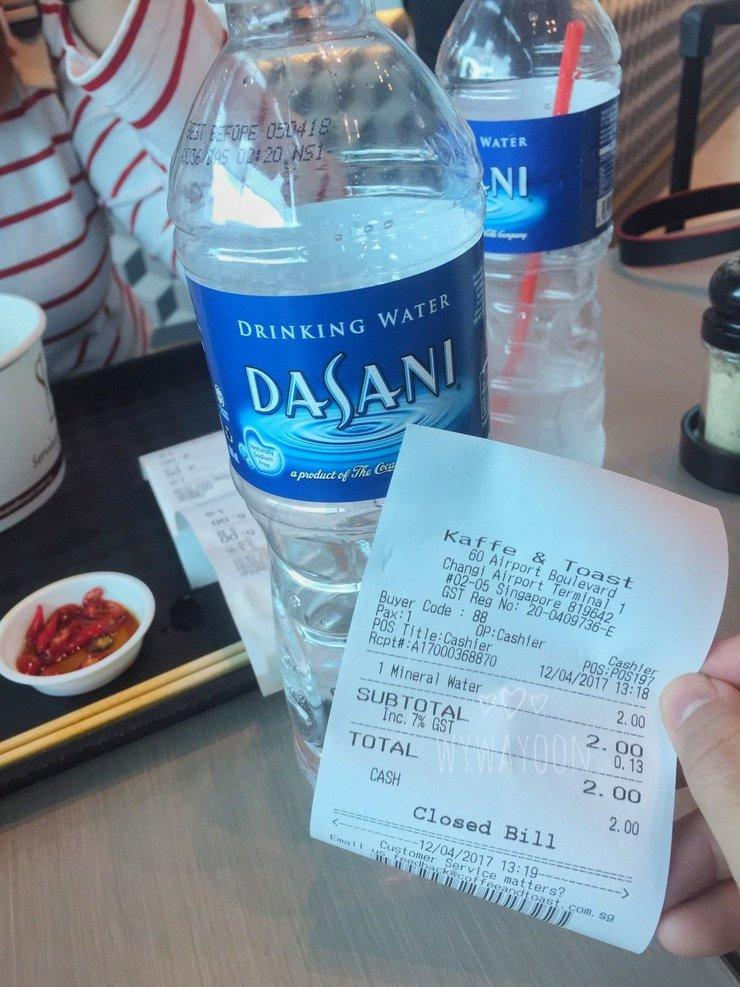bottle: (155, 0, 523, 855), (393, 0, 640, 587)
